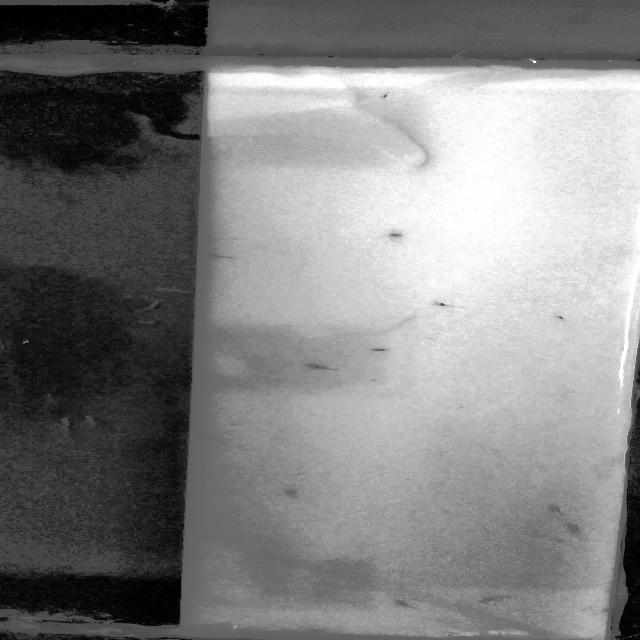shrimp: (377, 226, 427, 244), (286, 359, 340, 373), (389, 596, 436, 612), (426, 296, 462, 312), (545, 500, 572, 521), (364, 344, 400, 358), (478, 593, 504, 608), (563, 523, 591, 535), (201, 251, 240, 259), (189, 432, 214, 440)
